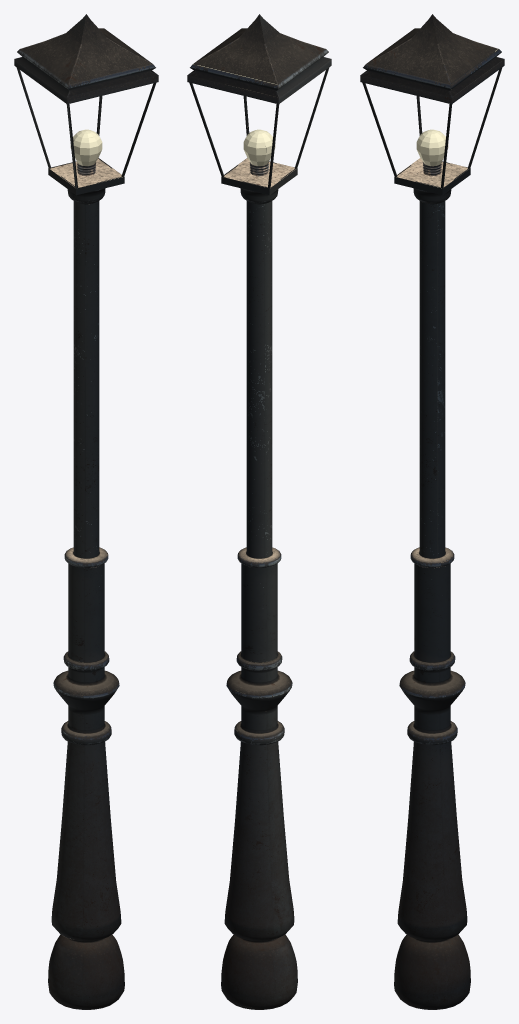
Rendered from StreetLight.obj.
The picture shows the model from 3 angles, left to right: view 1: azimuth 30°, elevation 25°; view 2: azimuth 150°, elevation 25°; view 3: azimuth 330°, elevation 25°; orthographic projection.
Parts seen in each view (by area): view 1: StreetLamp:polySurface35; view 2: StreetLamp:polySurface35; view 3: StreetLamp:polySurface35.
Part boxes in pixels (x1=…): StreetLamp:polySurface35: x1=14, y1=14, x2=158, y2=1009; StreetLamp:polySurface35: x1=187, y1=14, x2=331, y2=1009; StreetLamp:polySurface35: x1=360, y1=14, x2=504, y2=1009.
Bounding box in the file's own units: 1.09 × 11.22 × 1.09.
Materials: 2 (2 with a texture image).
